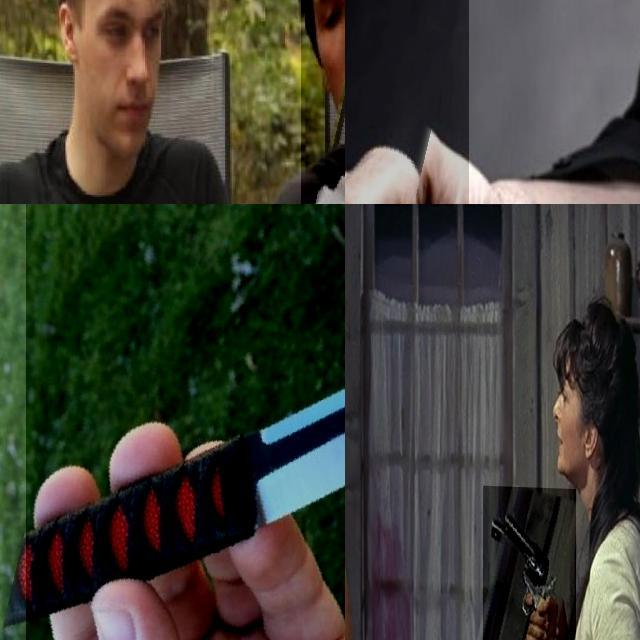-: (26, 204, 345, 640), (345, 0, 540, 204), (300, 0, 345, 204)
gun-knife-thesis - v11 Yolov5 augmented: (482, 483, 576, 640)
